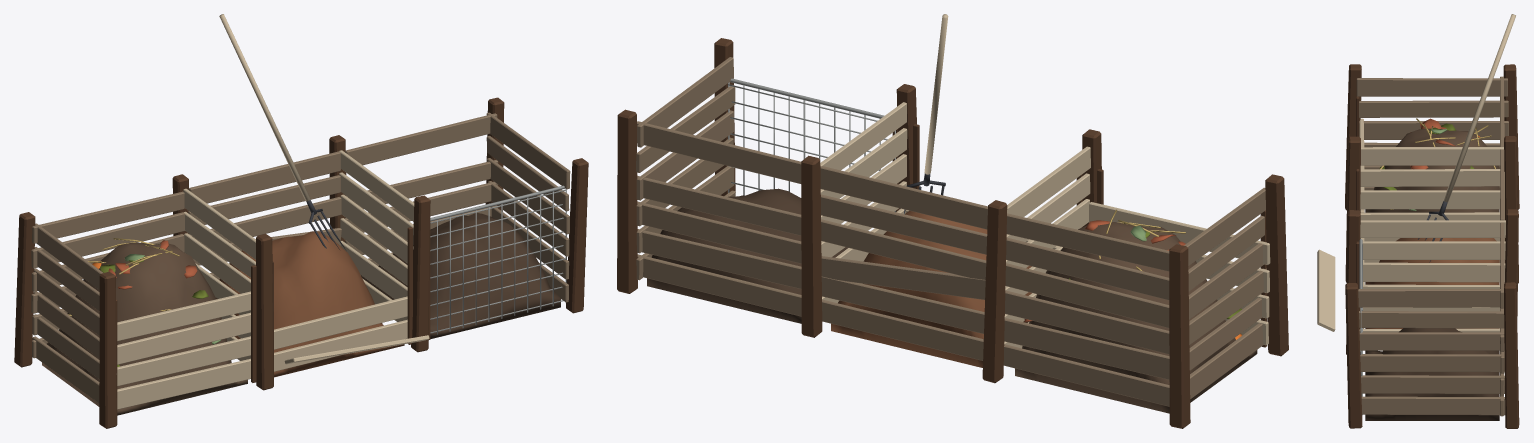
File: deco_compost_bays.fbx
The picture shows the model from 3 angles, left to right: view 1: azimuth 30°, elevation 25°; view 2: azimuth 150°, elevation 25°; view 3: azimuth 270°, elevation 25°; orthographic projection. The views are drawn at different scales.
Visible parts, largest first — view 1: CompostBays_Slats, CompostBays_Heaps, CompostBays_Posts, CompostBays_Mesh, CompostBays_Pitchfork, CompostBays_Scraps; view 2: CompostBays_Slats, CompostBays_Posts, CompostBays_Heaps, CompostBays_Mesh, CompostBays_Pitchfork, CompostBays_Scraps; view 3: CompostBays_Slats, CompostBays_Posts, CompostBays_Heaps, CompostBays_Pitchfork, CompostBays_Scraps, CompostBays_Mesh.
Boxes of the visible parts, x1,y1,x2,y2 form: CompostBays_Slats: (31, 112, 570, 411); CompostBays_Heaps: (42, 213, 560, 415); CompostBays_Posts: (14, 97, 588, 428); CompostBays_Mesh: (430, 185, 566, 334); CompostBays_Pitchfork: (219, 14, 346, 250); CompostBays_Scraps: (68, 238, 220, 366); CompostBays_Slats: (636, 57, 1270, 406); CompostBays_Posts: (617, 38, 1288, 428); CompostBays_Heaps: (647, 188, 1257, 413); CompostBays_Mesh: (728, 78, 895, 212); CompostBays_Pitchfork: (904, 14, 948, 213); CompostBays_Scraps: (1024, 209, 1241, 339); CompostBays_Slats: (1317, 76, 1508, 416); CompostBays_Posts: (1345, 64, 1519, 428); CompostBays_Heaps: (1365, 128, 1499, 420); CompostBays_Pitchfork: (1418, 14, 1515, 262); CompostBays_Scraps: (1379, 118, 1495, 211); CompostBays_Mesh: (1359, 239, 1362, 415).
Size of the model in its own units: 392 by 233 by 149.
